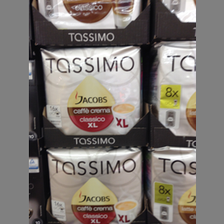coffee: (40, 46, 142, 136), (46, 147, 142, 224)
